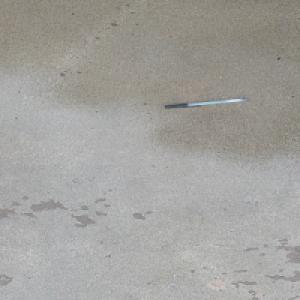Pen: (163, 97, 248, 109)
